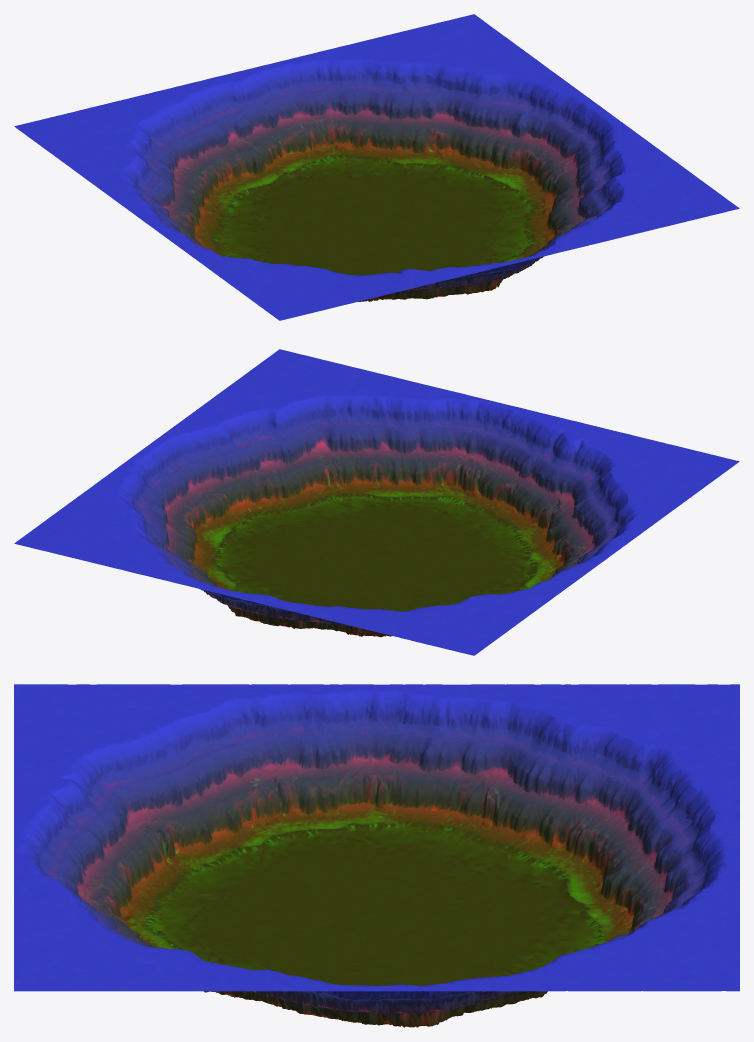
Rendered from terrain_crater.fbx.
3 views of the same model, one above another, from view 1: azimuth 30°, elevation 25°; view 2: azimuth 150°, elevation 25°; view 3: azimuth 270°, elevation 25° (orthographic). The views are drawn at different scales.
Parts seen in each view (by area): view 1: group_cleanup; view 2: group_cleanup; view 3: group_cleanup.
Part boxes in pixels (x1,y1,x2,y2): group_cleanup: (14, 14, 739, 320); group_cleanup: (14, 349, 739, 655); group_cleanup: (14, 684, 739, 1027).
Size of the model in its own units: 399 by 50.19 by 399.
